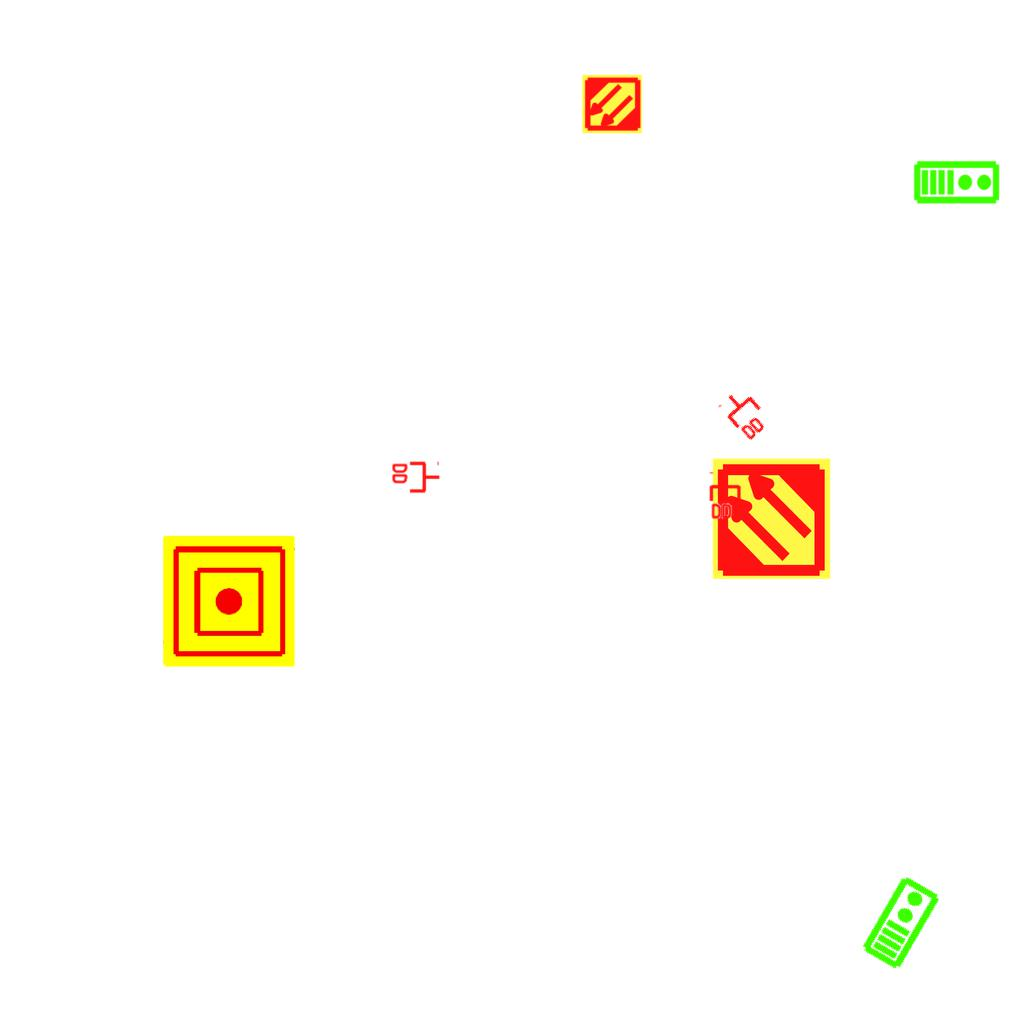ASR_Ansaugrauchmelder: (709, 456, 834, 581), (581, 73, 643, 135)
Datenanschluss_zweifach: (716, 383, 776, 444), (390, 461, 441, 495), (709, 470, 743, 521)
Gegensprechanlage_mit_Video: (858, 872, 943, 972), (913, 158, 1001, 205)
NAM-Nichtautomatischer_Melder: (163, 535, 295, 667)
